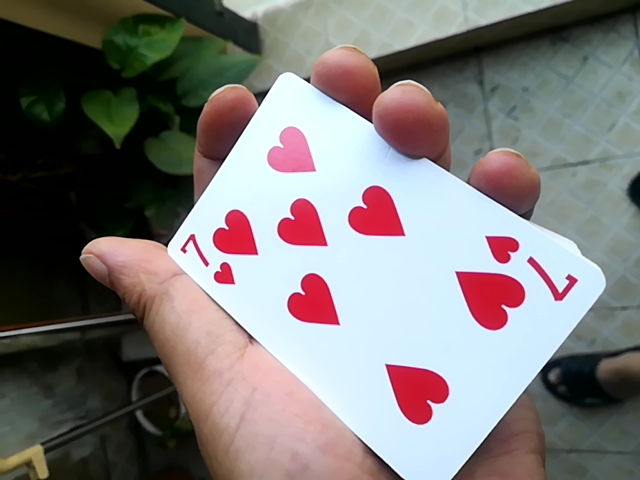hx 7: (155, 54, 606, 480)
